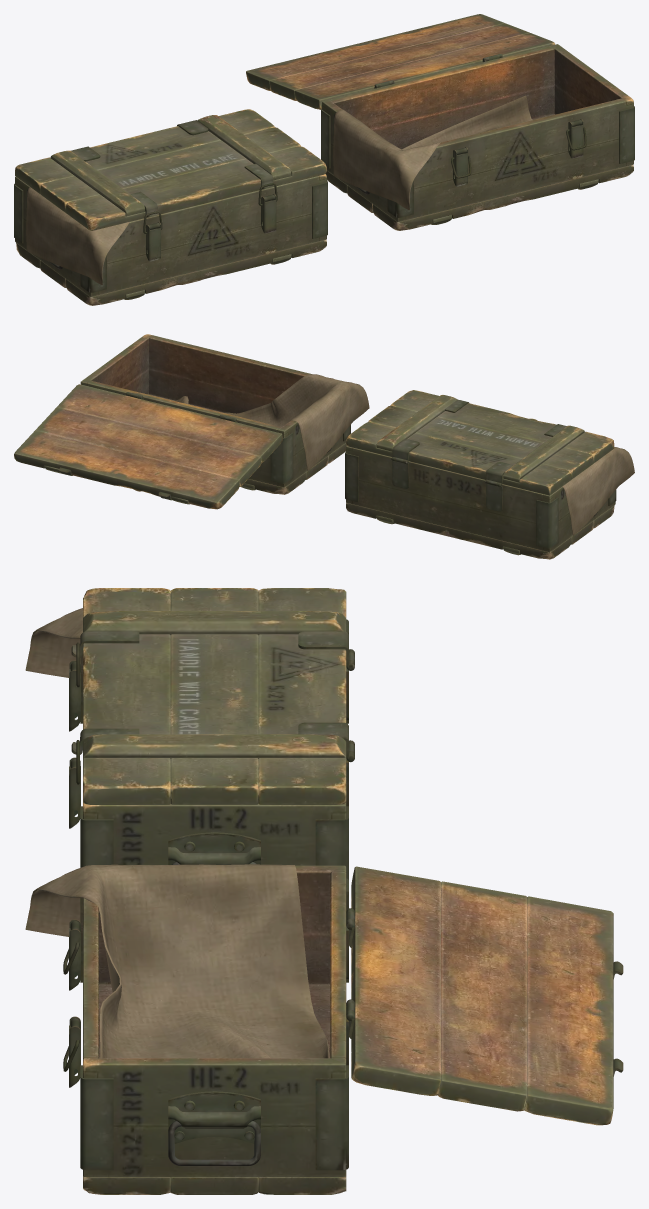
Rendered from old_military_crate.glb.
The picture shows the model from 3 angles, top to bottom: view 1: azimuth 30°, elevation 25°; view 2: azimuth 150°, elevation 25°; view 3: azimuth 270°, elevation 25°; orthographic projection. The views are drawn at different scales.
Parts seen in each view (by area): view 1: old_military_crate_lid_a; view 2: old_military_crate_lid_a; view 3: old_military_crate_lid_a.
Boxes of the visible parts, x1,y1,x2,y2 form: old_military_crate_lid_a: (14,14,634,305); old_military_crate_lid_a: (14,334,634,559); old_military_crate_lid_a: (25,588,623,1194).
Size of the model in its own units: 1.82 by 0.3009 by 0.9756.
1 material, 1 textured.
